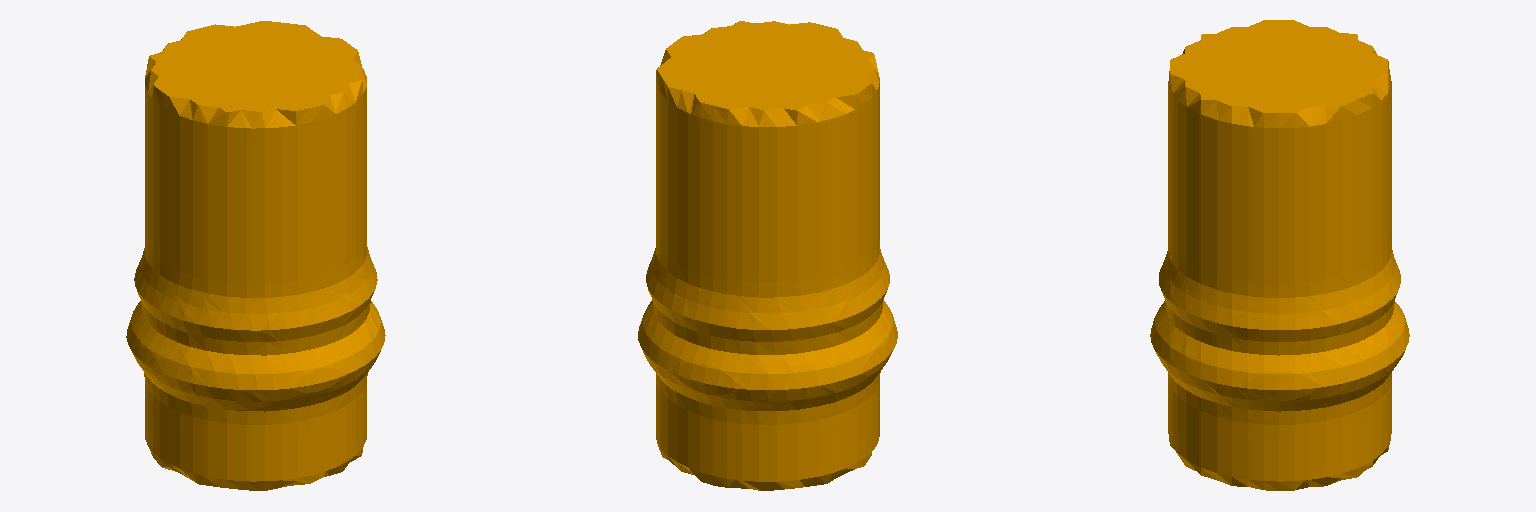
The robot description file, URDF, robot "cylinder_../../meshes/cylinders/cylinder_91.stl":
<?xml version="1.0" encoding="utf-8"?>  <robot name="cylinder_../../meshes/cylinders/cylinder_91.stl">   <link name="cylinder_../../meshes/cylinders/cylinder_91.stl">     <visual>       <geometry>         <mesh filename="../meshes/cylinders/cylinder_91.stl" scale="1 1 1"/>       </geometry>     </visual>     <collision>       <geometry>         <mesh filename="../meshes/cylinders/cylinder_91.stl" scale="1 1 1"/>       </geometry>     </collision>     <inertial>        <origin         xyz="0 0 0"         rpy="0 0 0" />       <mass value="0.5619332383525503"/>       <origin rpy="0 0 0" xyz="0 0 0"/>       <inertia ixx="0.0010066753166584085" ixy="-8.39040545310015e-08" ixz="5.000387474857193e-08" iyy="0.001006679980325875" iyz="5.803789239778638e-08" izz="0.0003759687016110694"/>     </inertial>   </link>  </robot>

--- Facts derived from the render (not from the file) ---
Views: 3 orthographic renders of the robot side by side, from view 1: azimuth 30°, elevation 25°; view 2: azimuth 150°, elevation 25°; view 3: azimuth 270°, elevation 25°.
Robot: cylinder_../../meshes/cylinders/cylinder_91.stl — 1 links, 0 joints (none); root link cylinder_../../meshes/cylinders/cylinder_91.stl; default pose: all joints at 0.
Links seen in each view (by area): view 1: cylinder_../../meshes/cylinders/cylinder_91.stl; view 2: cylinder_../../meshes/cylinders/cylinder_91.stl; view 3: cylinder_../../meshes/cylinders/cylinder_91.stl.
Link boxes in pixels (box(x1,y1,x2,y2)): cylinder_../../meshes/cylinders/cylinder_91.stl: box(126, 21, 385, 490); cylinder_../../meshes/cylinders/cylinder_91.stl: box(638, 21, 897, 490); cylinder_../../meshes/cylinders/cylinder_91.stl: box(1150, 20, 1409, 490).
Bounding box of the posed robot: 0.0832 × 0.0832 × 0.1348 m (x, y, z).
1 mesh visuals loaded from 1 distinct referenced files (1 binary STL).